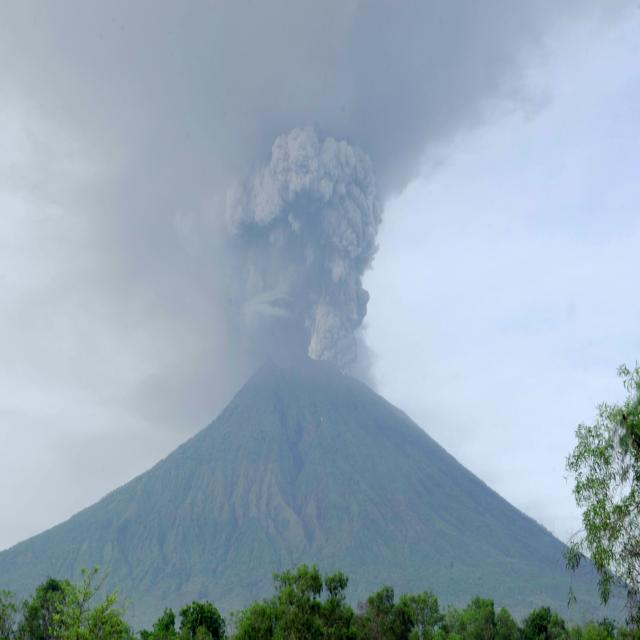smoke: (232, 113, 372, 352)
